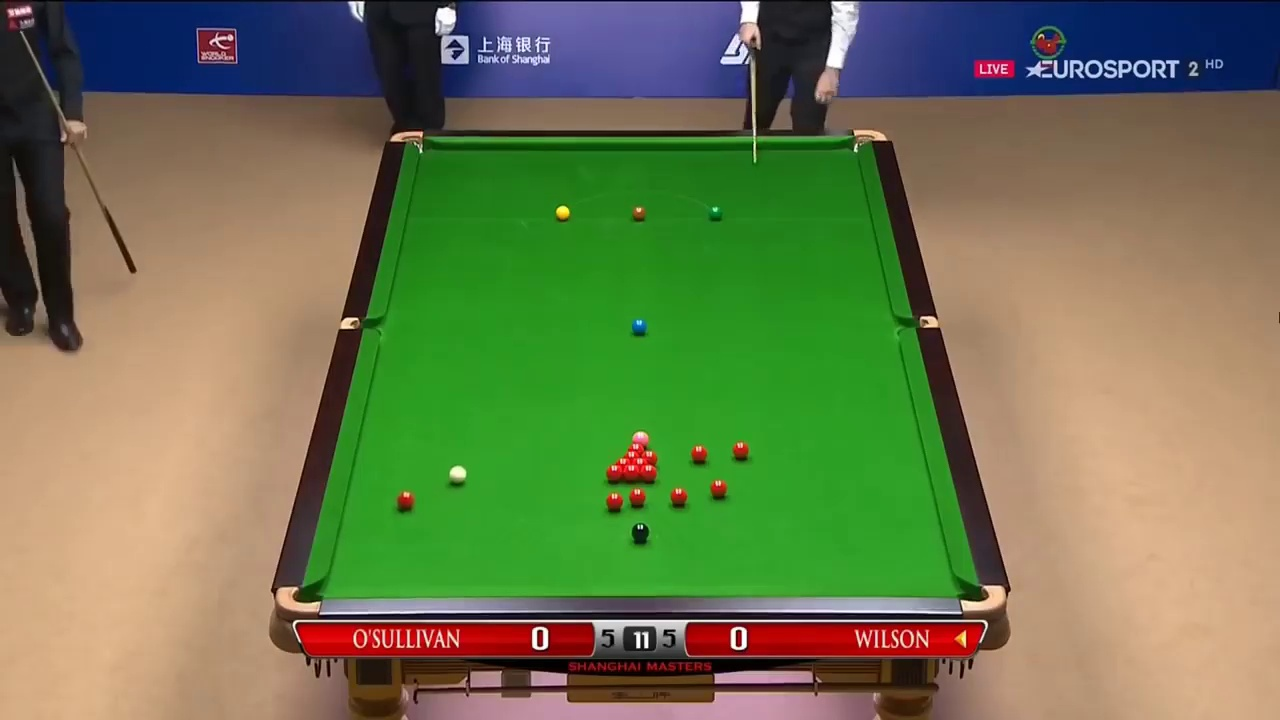black: (630, 523, 650, 543)
blue: (629, 316, 647, 334)
brown: (633, 206, 645, 220)
green: (709, 202, 722, 221)
pink: (626, 431, 651, 444)
red: (396, 489, 415, 511), (639, 464, 660, 483), (689, 443, 709, 462), (710, 480, 730, 499), (604, 464, 623, 483), (670, 487, 688, 507), (731, 440, 749, 460), (604, 492, 623, 510), (630, 488, 646, 507)
white: (446, 465, 467, 484)
yellow: (552, 202, 572, 221)
